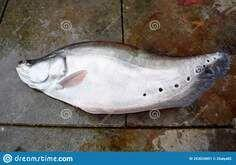Knifefish: (16, 38, 232, 115)
